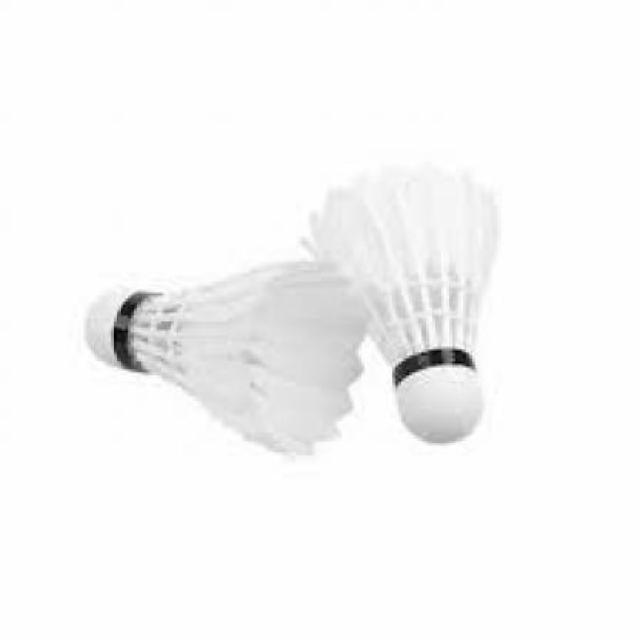Shuttlecock: (83, 255, 368, 468)
